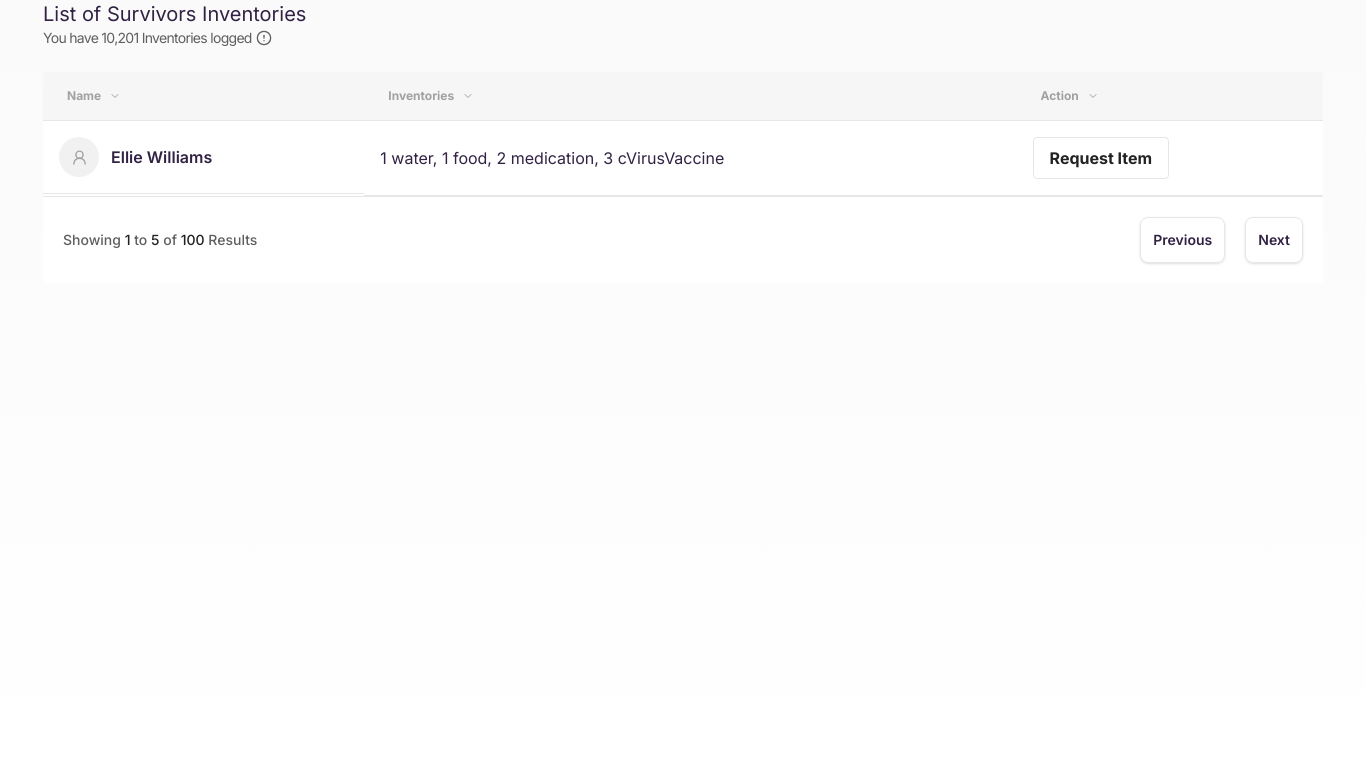
Inventory component › opens modal on clicking "Request Item" button
Click the button "Request Item": coordinates (1101, 158) [1033,137,1169,179]
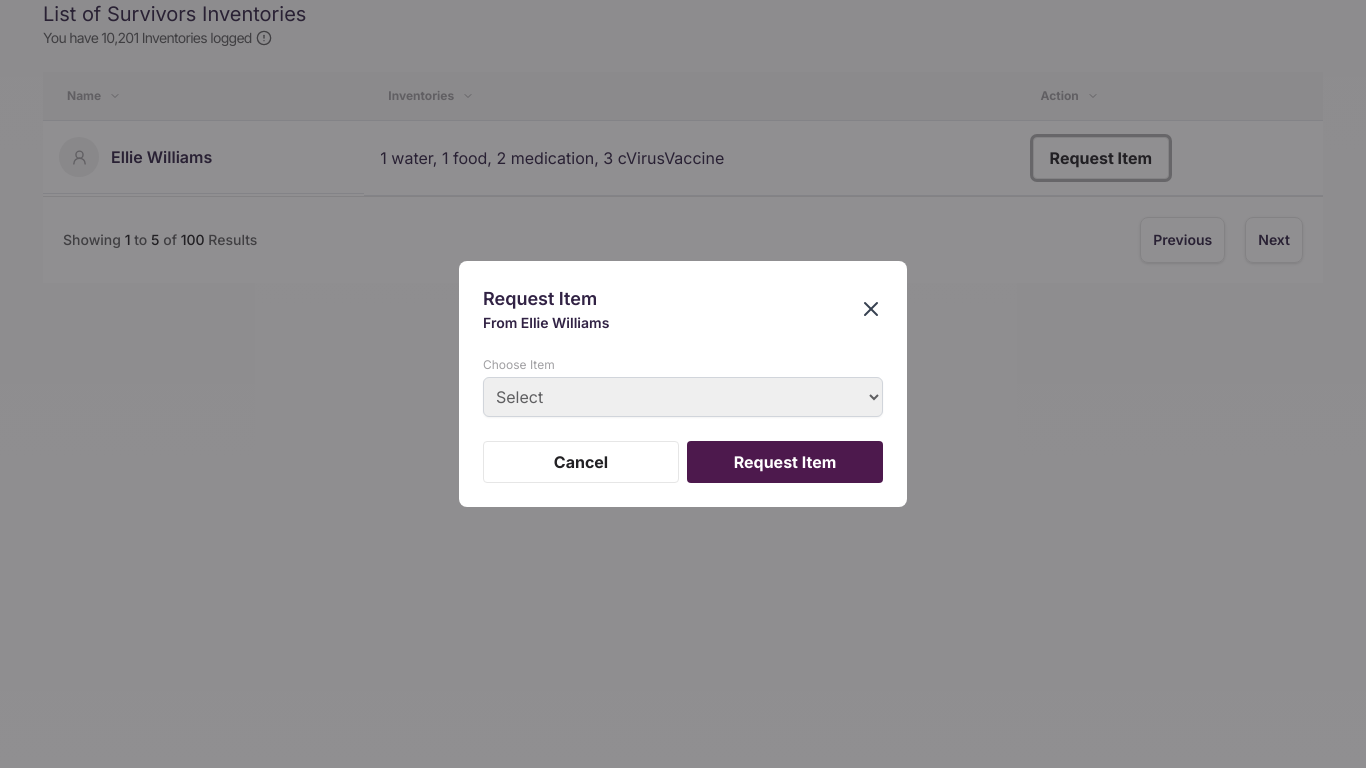
Expected: the dialog is shown
